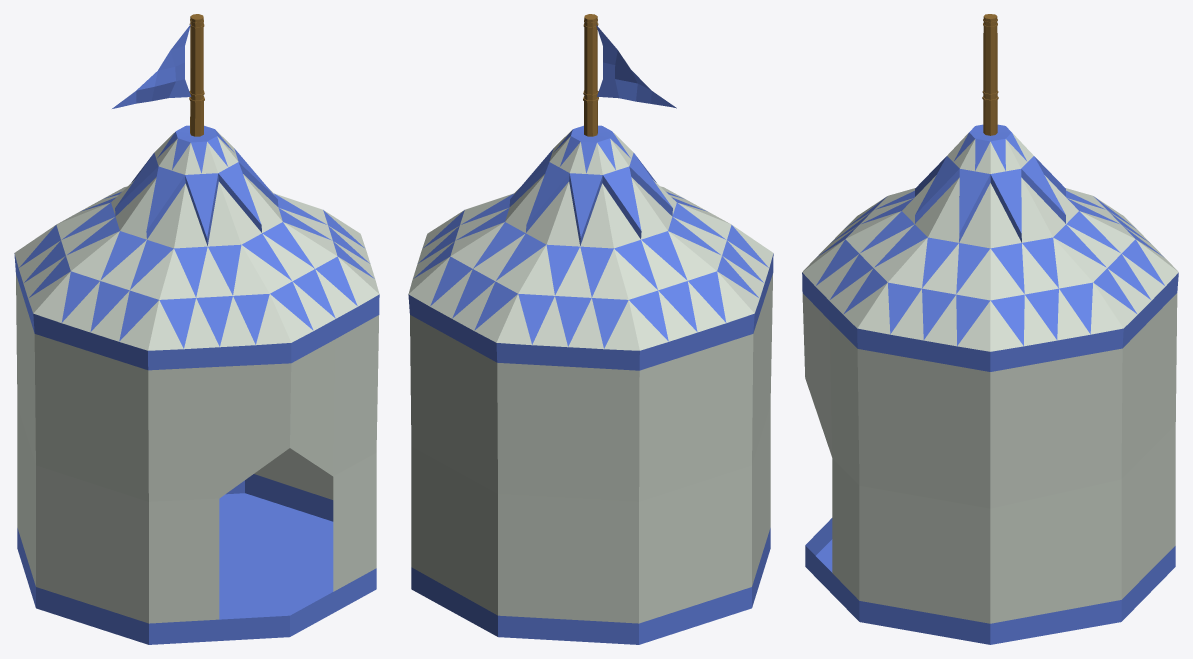
Rendered from Tent_L_Blue.fbx.
The picture shows the model from 3 angles, left to right: view 1: azimuth 30°, elevation 25°; view 2: azimuth 150°, elevation 25°; view 3: azimuth 270°, elevation 25°; orthographic projection.
Visible parts, largest first — view 1: Tent_L_Blue; view 2: Tent_L_Blue; view 3: Tent_L_Blue.
Part boxes in pixels (x1,y1,x2,y2): Tent_L_Blue: (14, 14, 379, 644); Tent_L_Blue: (408, 14, 773, 644); Tent_L_Blue: (802, 14, 1178, 644).
Size of the model in its own units: 203 by 328 by 203.
